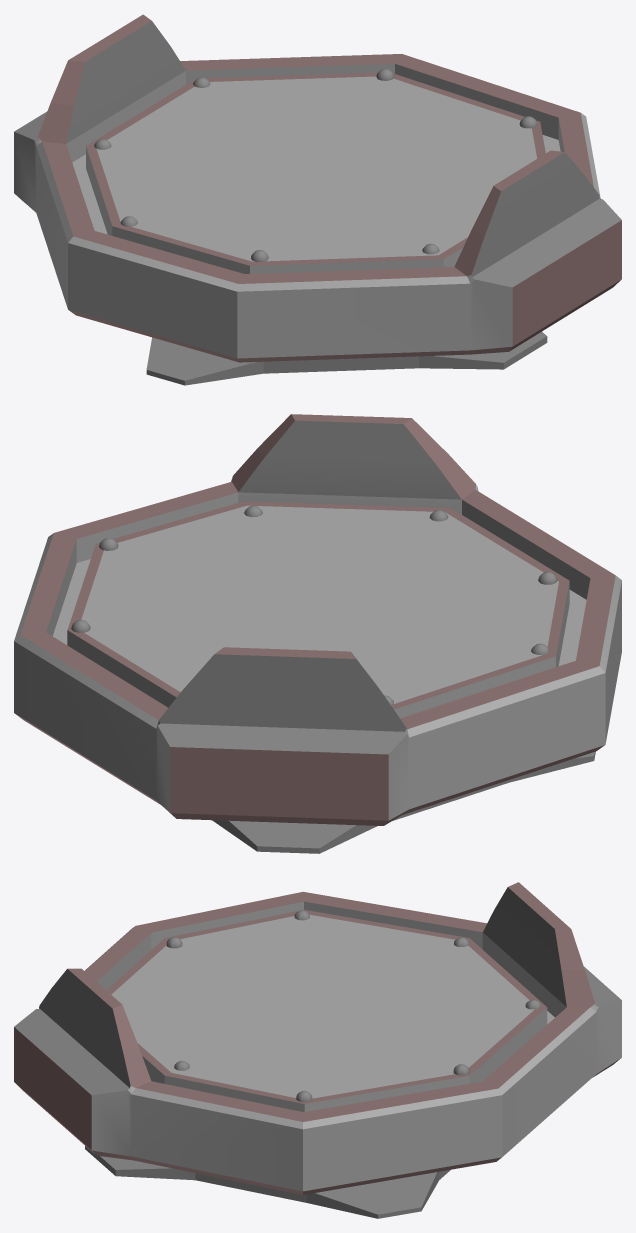
The model's file is plataforma2.fbx.
The picture shows the model from 3 angles, top to bottom: view 1: azimuth 30°, elevation 25°; view 2: azimuth 150°, elevation 25°; view 3: azimuth 270°, elevation 25°; orthographic projection. The views are drawn at different scales.
Visible parts, largest first — view 1: Plataforma; view 2: Plataforma; view 3: Plataforma.
Boxes of the visible parts, x1,y1,x2,y2 form: Plataforma: (14,14,621,385); Plataforma: (14,414,621,853); Plataforma: (14,882,621,1218).
Bounding box in the file's own units: 62.8 × 24.07 × 68.59.
